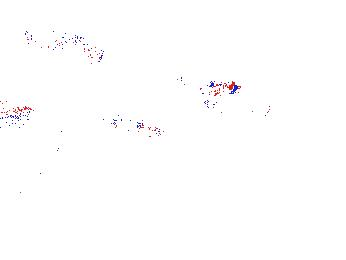X-ray fish: (76, 227, 93, 248)
glassfish: (1, 91, 102, 161)
red belly glassfish: (108, 116, 164, 138), (183, 78, 241, 97), (1, 107, 35, 124)
redtail glassfish: (204, 97, 276, 121), (24, 24, 86, 50), (68, 41, 111, 65)
